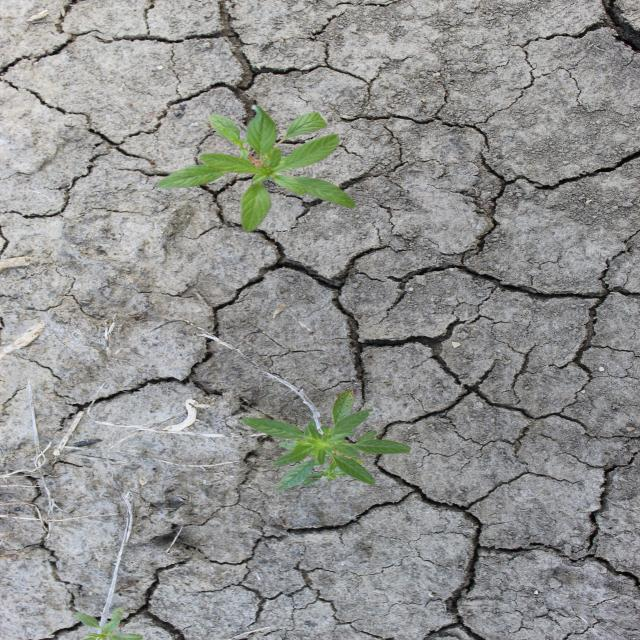Waterhemp: (154, 104, 359, 232), (242, 389, 413, 493)
